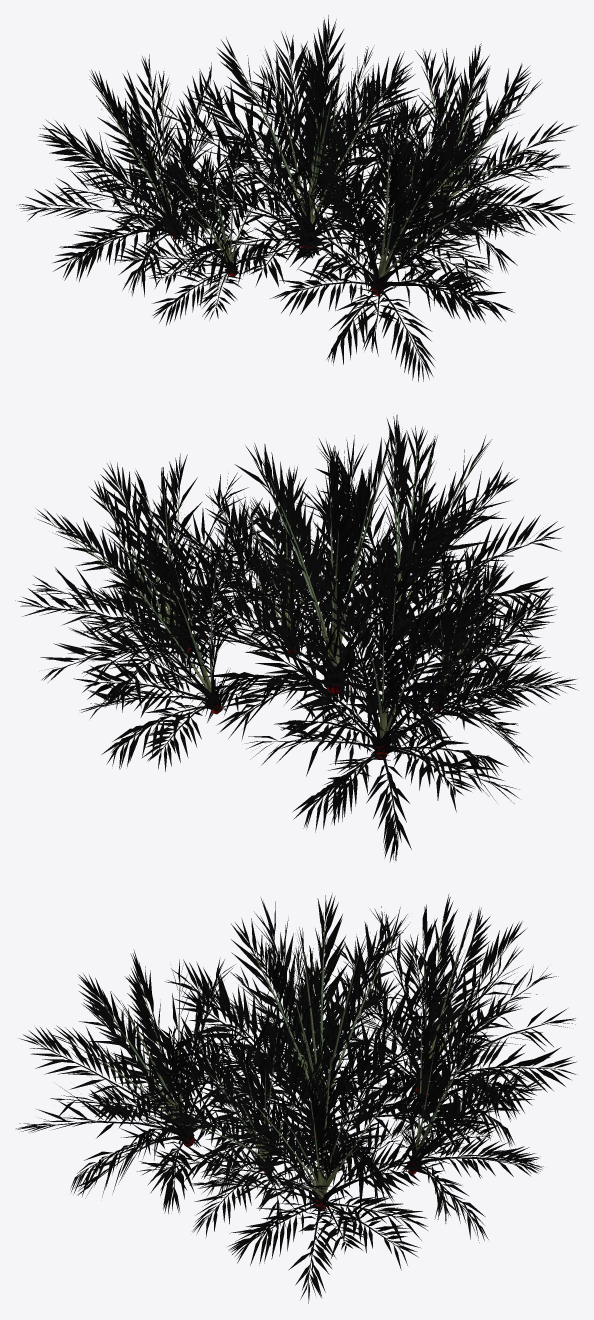
The model's file is Oasisplant.fbx.
The picture shows the model from 3 angles, top to bottom: view 1: azimuth 30°, elevation 25°; view 2: azimuth 150°, elevation 25°; view 3: azimuth 270°, elevation 25°; orthographic projection. The views are drawn at different scales.
Parts seen in each view (by area): view 1: Phoenix_dactylifera_HD; view 2: Phoenix_dactylifera_HD; view 3: Phoenix_dactylifera_HD.
Boxes of the visible parts, box(x1,y1,x2,y2) form: Phoenix_dactylifera_HD: box(16, 15, 577, 381); Phoenix_dactylifera_HD: box(15, 414, 578, 862); Phoenix_dactylifera_HD: box(16, 893, 576, 1303).
Bounding box in the file's own units: 258 × 135 × 246.
